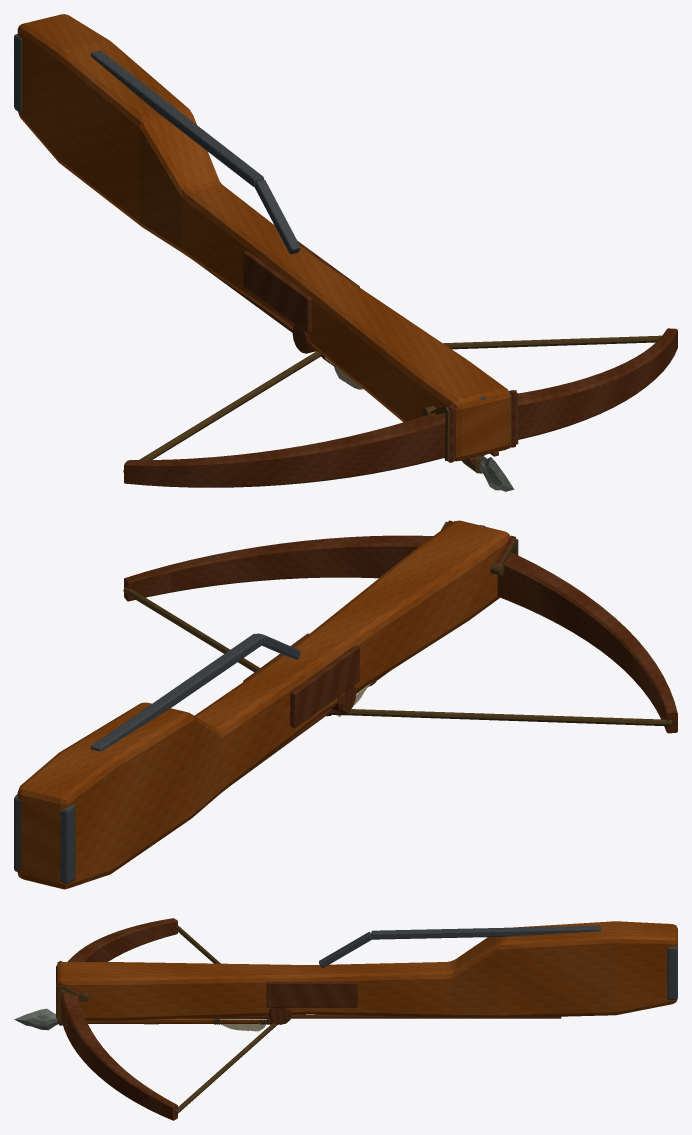
The model's file is AuxiliaReinforcedCrossbowCockedStoneBolt.fbx.
3 renders of one model, top to bottom at view 1: azimuth 30°, elevation 25°; view 2: azimuth 150°, elevation 25°; view 3: azimuth 270°, elevation 25°, orthographic. The views are drawn at different scales.
Parts seen in each view (by area): view 1: AuxiliaReinforcedCrossbowCockedStoneBolt_GameExport; view 2: AuxiliaReinforcedCrossbowCockedStoneBolt_GameExport; view 3: AuxiliaReinforcedCrossbowCockedStoneBolt_GameExport.
Boxes of the visible parts, x1=… form: AuxiliaReinforcedCrossbowCockedStoneBolt_GameExport: x1=14, y1=14, x2=677, y2=491; AuxiliaReinforcedCrossbowCockedStoneBolt_GameExport: x1=14, y1=520, x2=677, y2=889; AuxiliaReinforcedCrossbowCockedStoneBolt_GameExport: x1=14, y1=918, x2=677, y2=1120.
Size of the model in its own units: 24.56 by 36.4 by 6.29.
